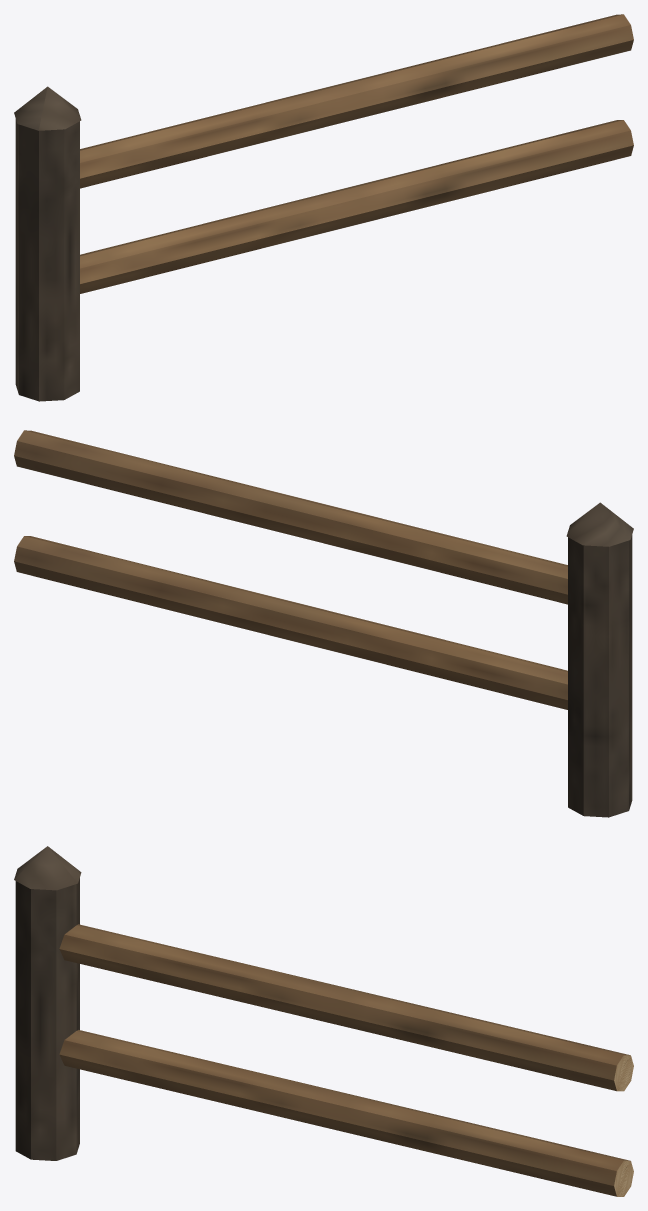
The model's file is SM_Lobby_Fence.fbx.
The picture shows the model from 3 angles, top to bottom: view 1: azimuth 30°, elevation 25°; view 2: azimuth 150°, elevation 25°; view 3: azimuth 330°, elevation 25°; orthographic projection.
Visible parts, largest first — view 1: SM_Lobby_Fence; view 2: SM_Lobby_Fence; view 3: SM_Lobby_Fence.
Part boxes in pixels (x1=…): SM_Lobby_Fence: x1=14, y1=14, x2=633, y2=401; SM_Lobby_Fence: x1=14, y1=430, x2=633, y2=817; SM_Lobby_Fence: x1=14, y1=846, x2=633, y2=1196.
Bounding box in the file's own units: 8.42 × 4 × 0.84.
Materials: 1 (1 with a texture image).
